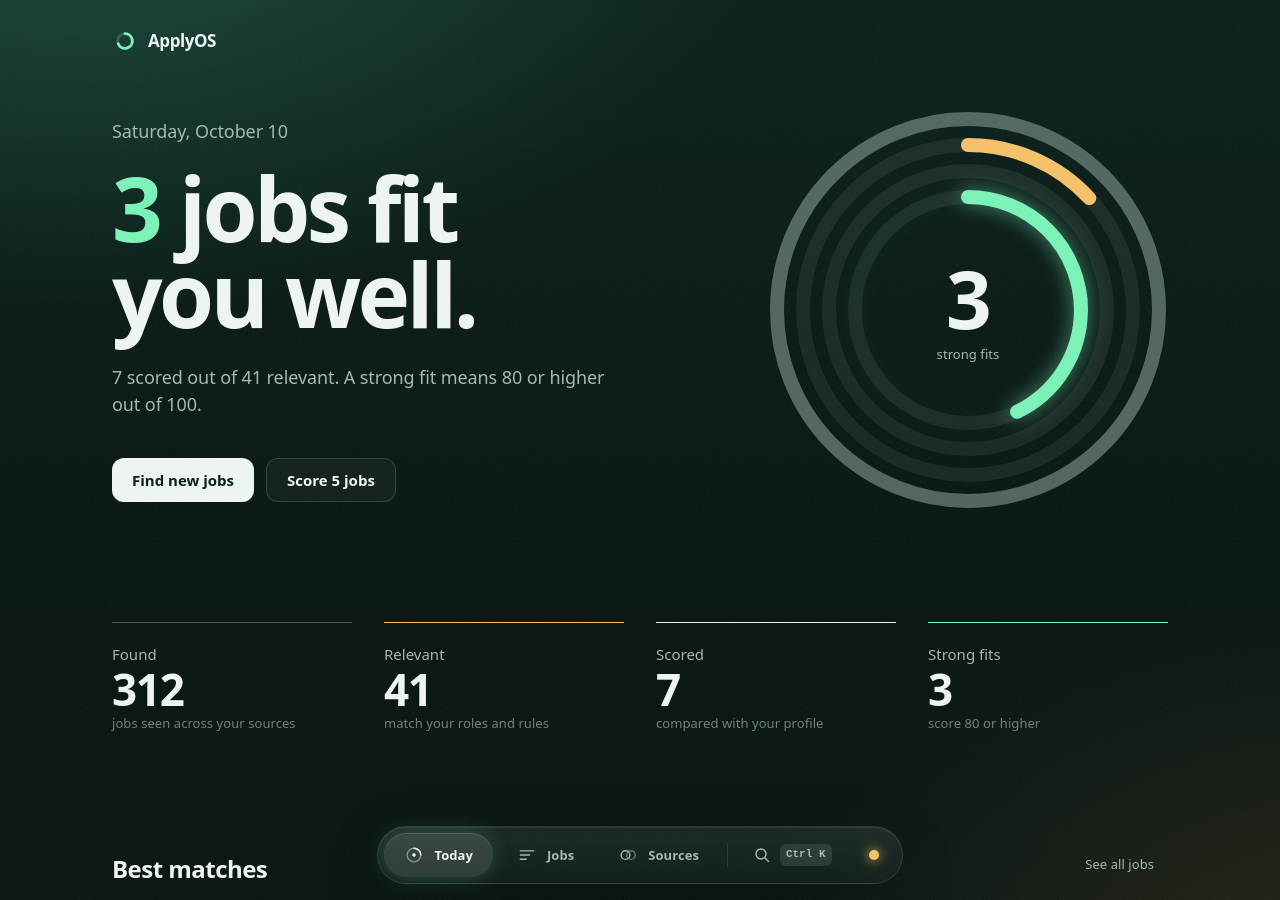
Test: Shell › the status orb explains what needs fixing
The image size is (1280, 900).
Step 1. Click the button named "System status" → (874,855), box [852,833,896,877]
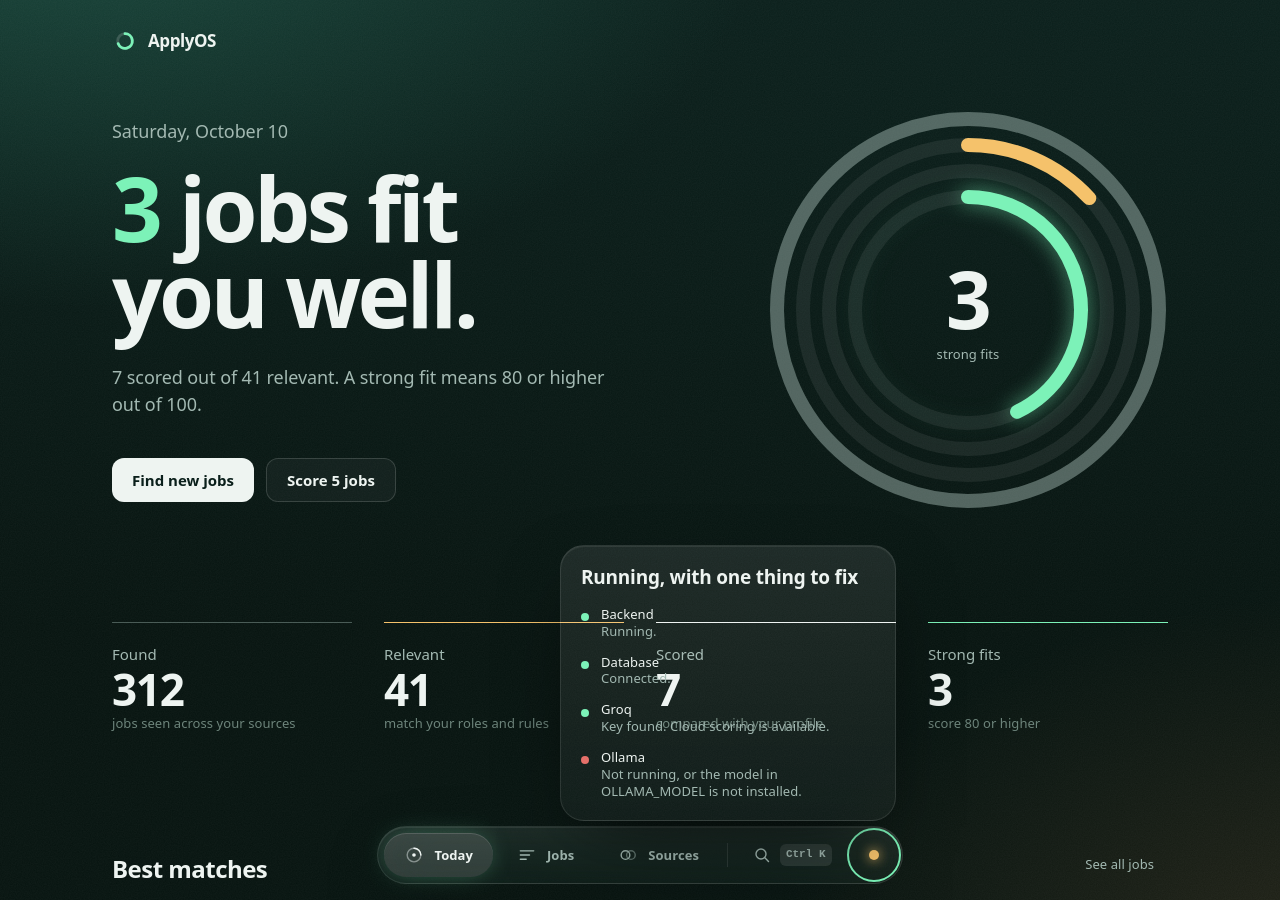
Now the dialog named "System status" shows "Running, with one thing to fix", box [580,564,858,590]
Now the dialog named "System status" shows "Not running, or the model in OLLAMA_MODEL is not installed.", box [600,765,801,800]
